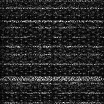lte: (1, 75, 104, 81), (1, 62, 104, 66), (1, 44, 104, 48), (1, 18, 104, 22), (1, 6, 104, 10)
